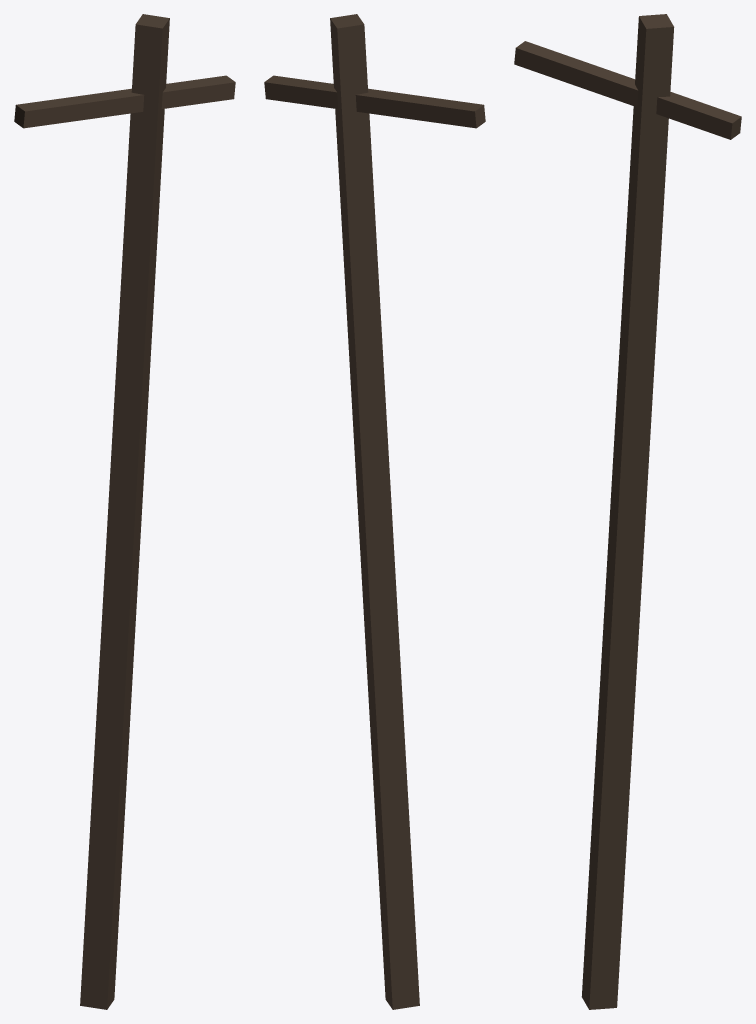
Rendered from bg_wasteland_pole_1_lod2.glb.
3 renders of one model, left to right at view 1: azimuth 30°, elevation 25°; view 2: azimuth 150°, elevation 25°; view 3: azimuth 330°, elevation 25°, orthographic. The views are drawn at different scales.
Parts seen in each view (by area): view 1: body; view 2: body; view 3: body.
Boxes of the visible parts, x1=… form: body: x1=14, y1=14, x2=235, y2=1009; body: x1=264, y1=14, x2=485, y2=1009; body: x1=514, y1=14, x2=741, y2=1009.
Bounding box in the file's own units: 1.6 × 7 × 0.26.
